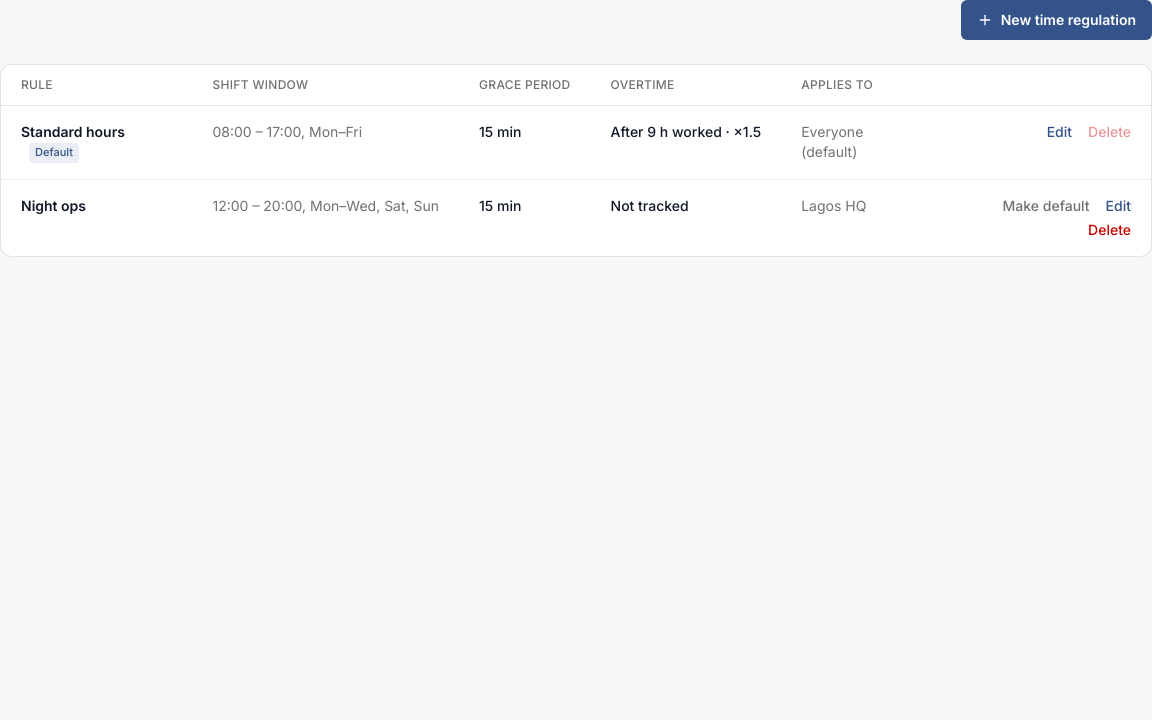
changing rules › refuses an end time before the start, like the server does
Click the button "New time regulation" at [1056, 20], box [961,0,1151,40]
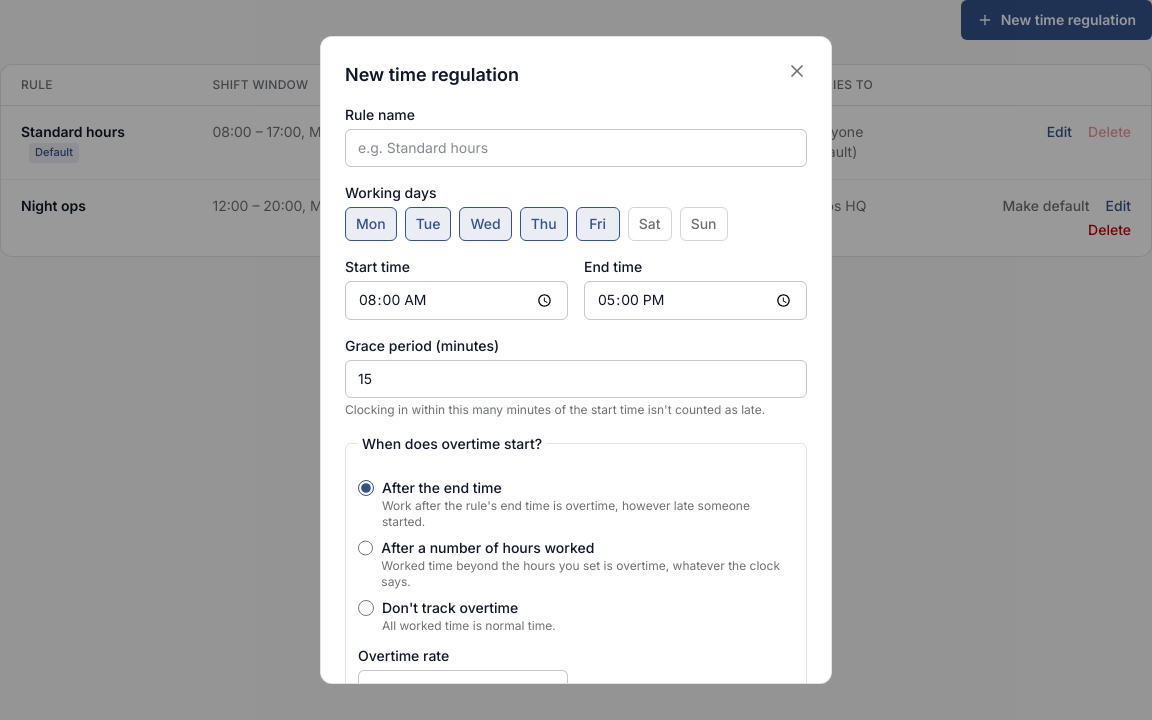
Type "Backwards" into the field labelled "Rule name" at [576, 148], box [345,129,807,167]
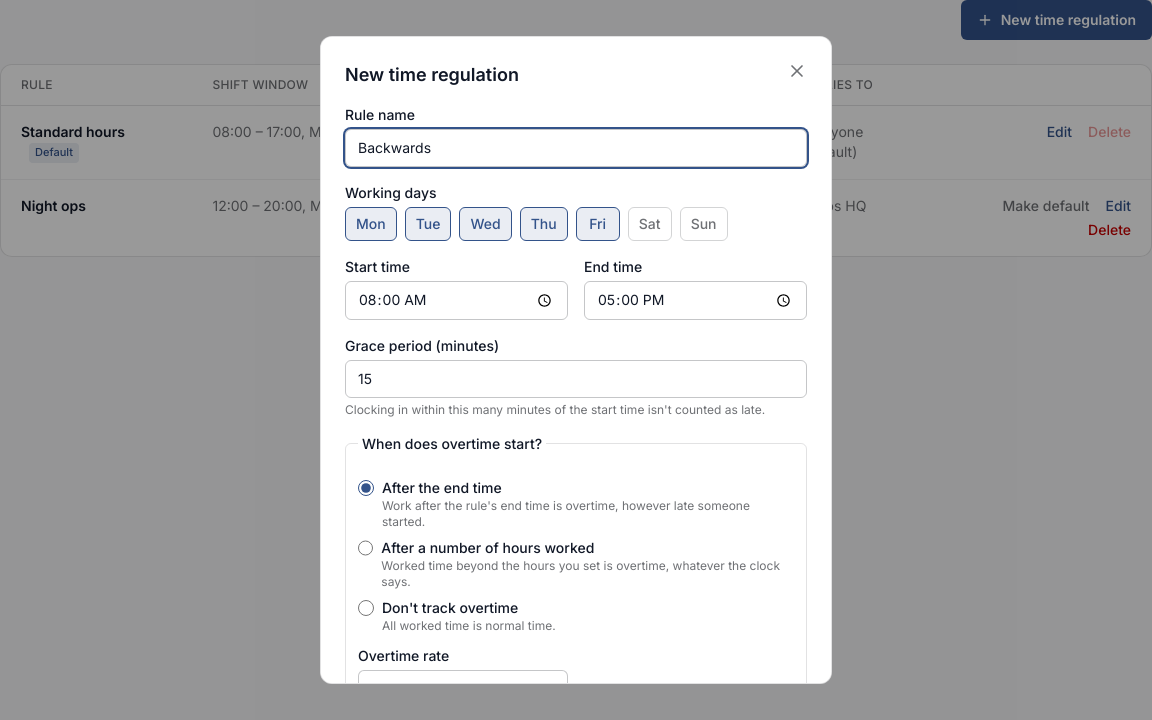
Replace the text in the time field labelled "End time" with "07:00" at [696, 300], box [584,281,807,320]
(page scrolled)
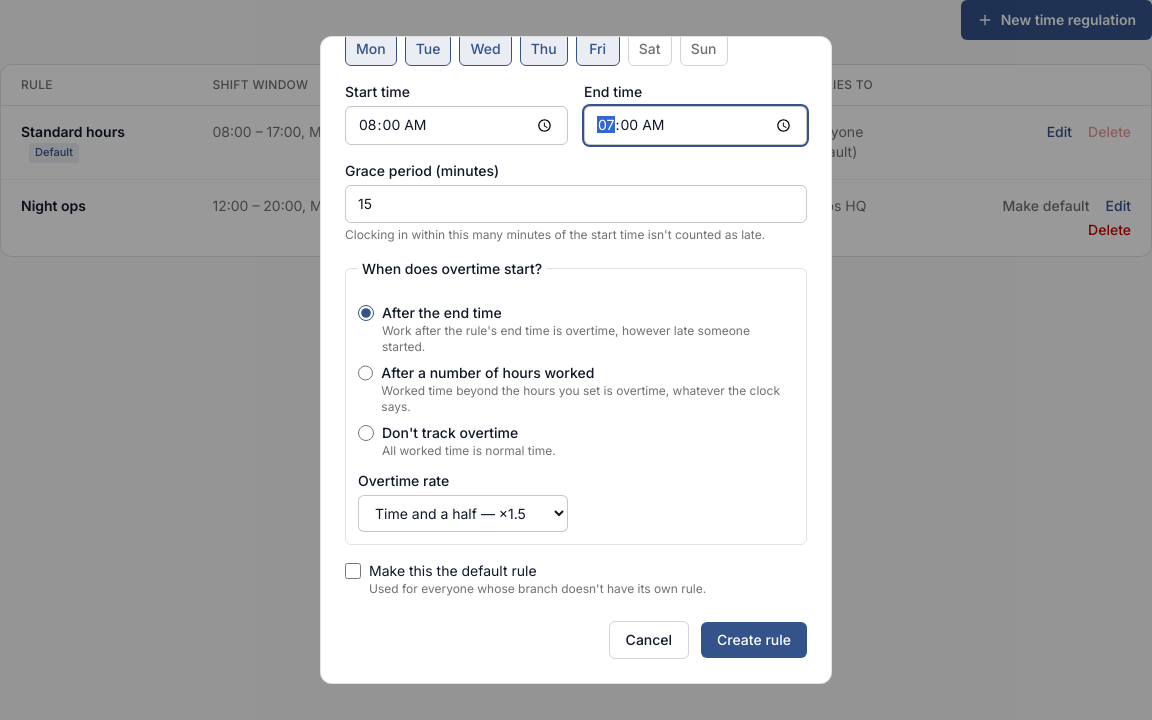
Click the button "Create rule" at [754, 640], box [701,622,807,658]
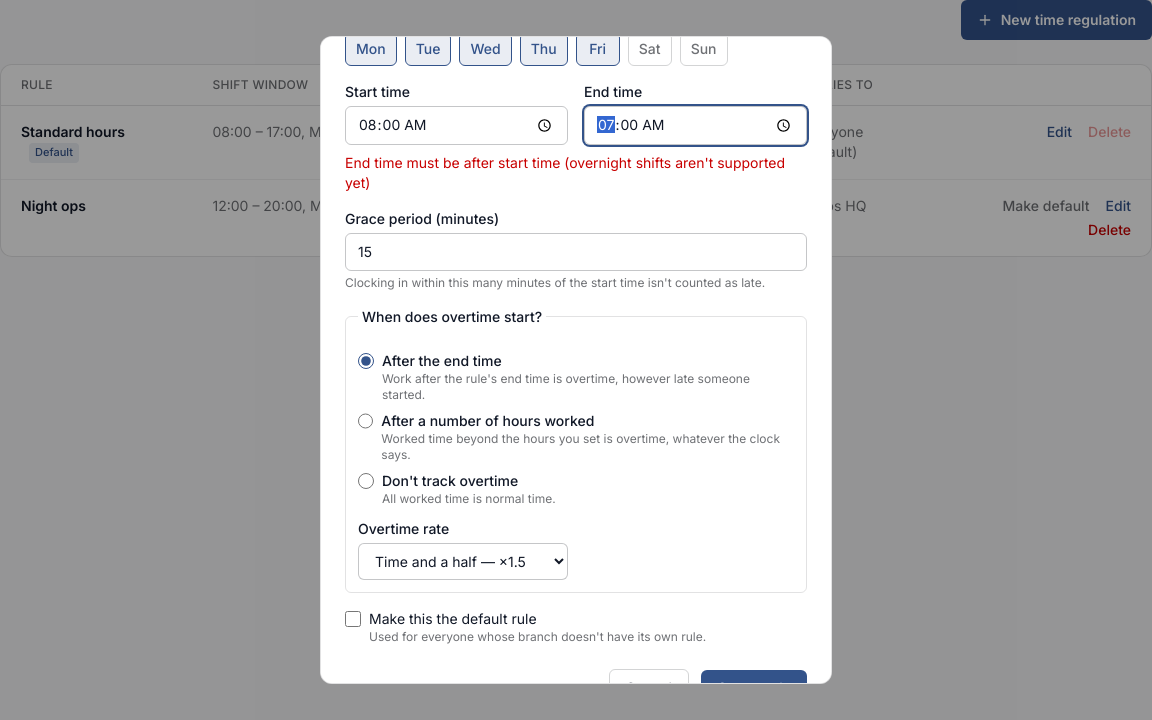
expect the text "End time must be after start time" is shown: met, box [345,154,785,191]
